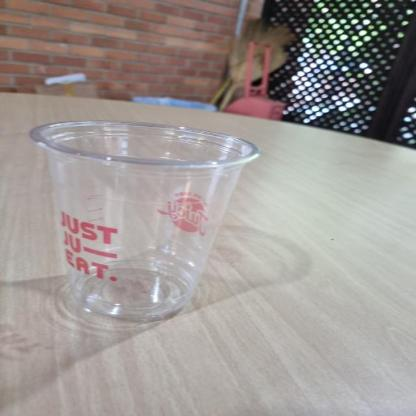Plastic Cup: (21, 112, 265, 328)
